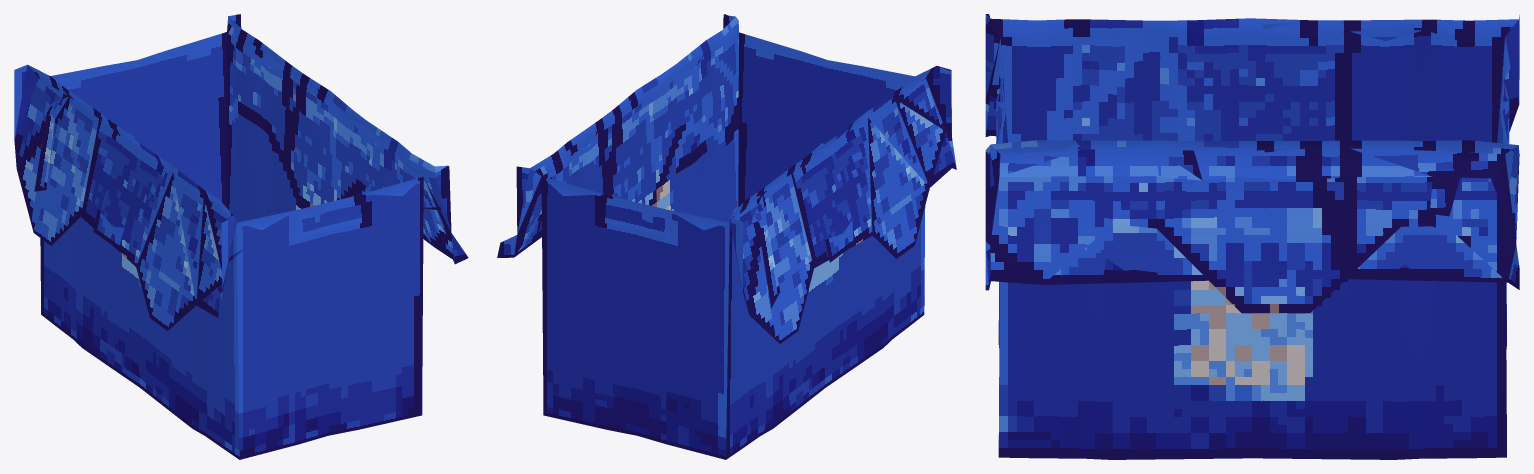
The model's file is industrial_pastic_container.glb.
3 views of the same model, side by side, from view 1: azimuth 30°, elevation 25°; view 2: azimuth 150°, elevation 25°; view 3: azimuth 270°, elevation 25° (orthographic). The views are drawn at different scales.
Visible parts, largest first — view 1: mesh; view 2: mesh; view 3: mesh.
Boxes of the visible parts, <box> form: mesh: <box>14,14,468,459</box>; mesh: <box>497,14,956,459</box>; mesh: <box>985,14,1519,459</box>.
Bounding box in the file's own units: 0.4502 × 0.4231 × 0.6371.
Materials: 1 (1 with a texture image).
